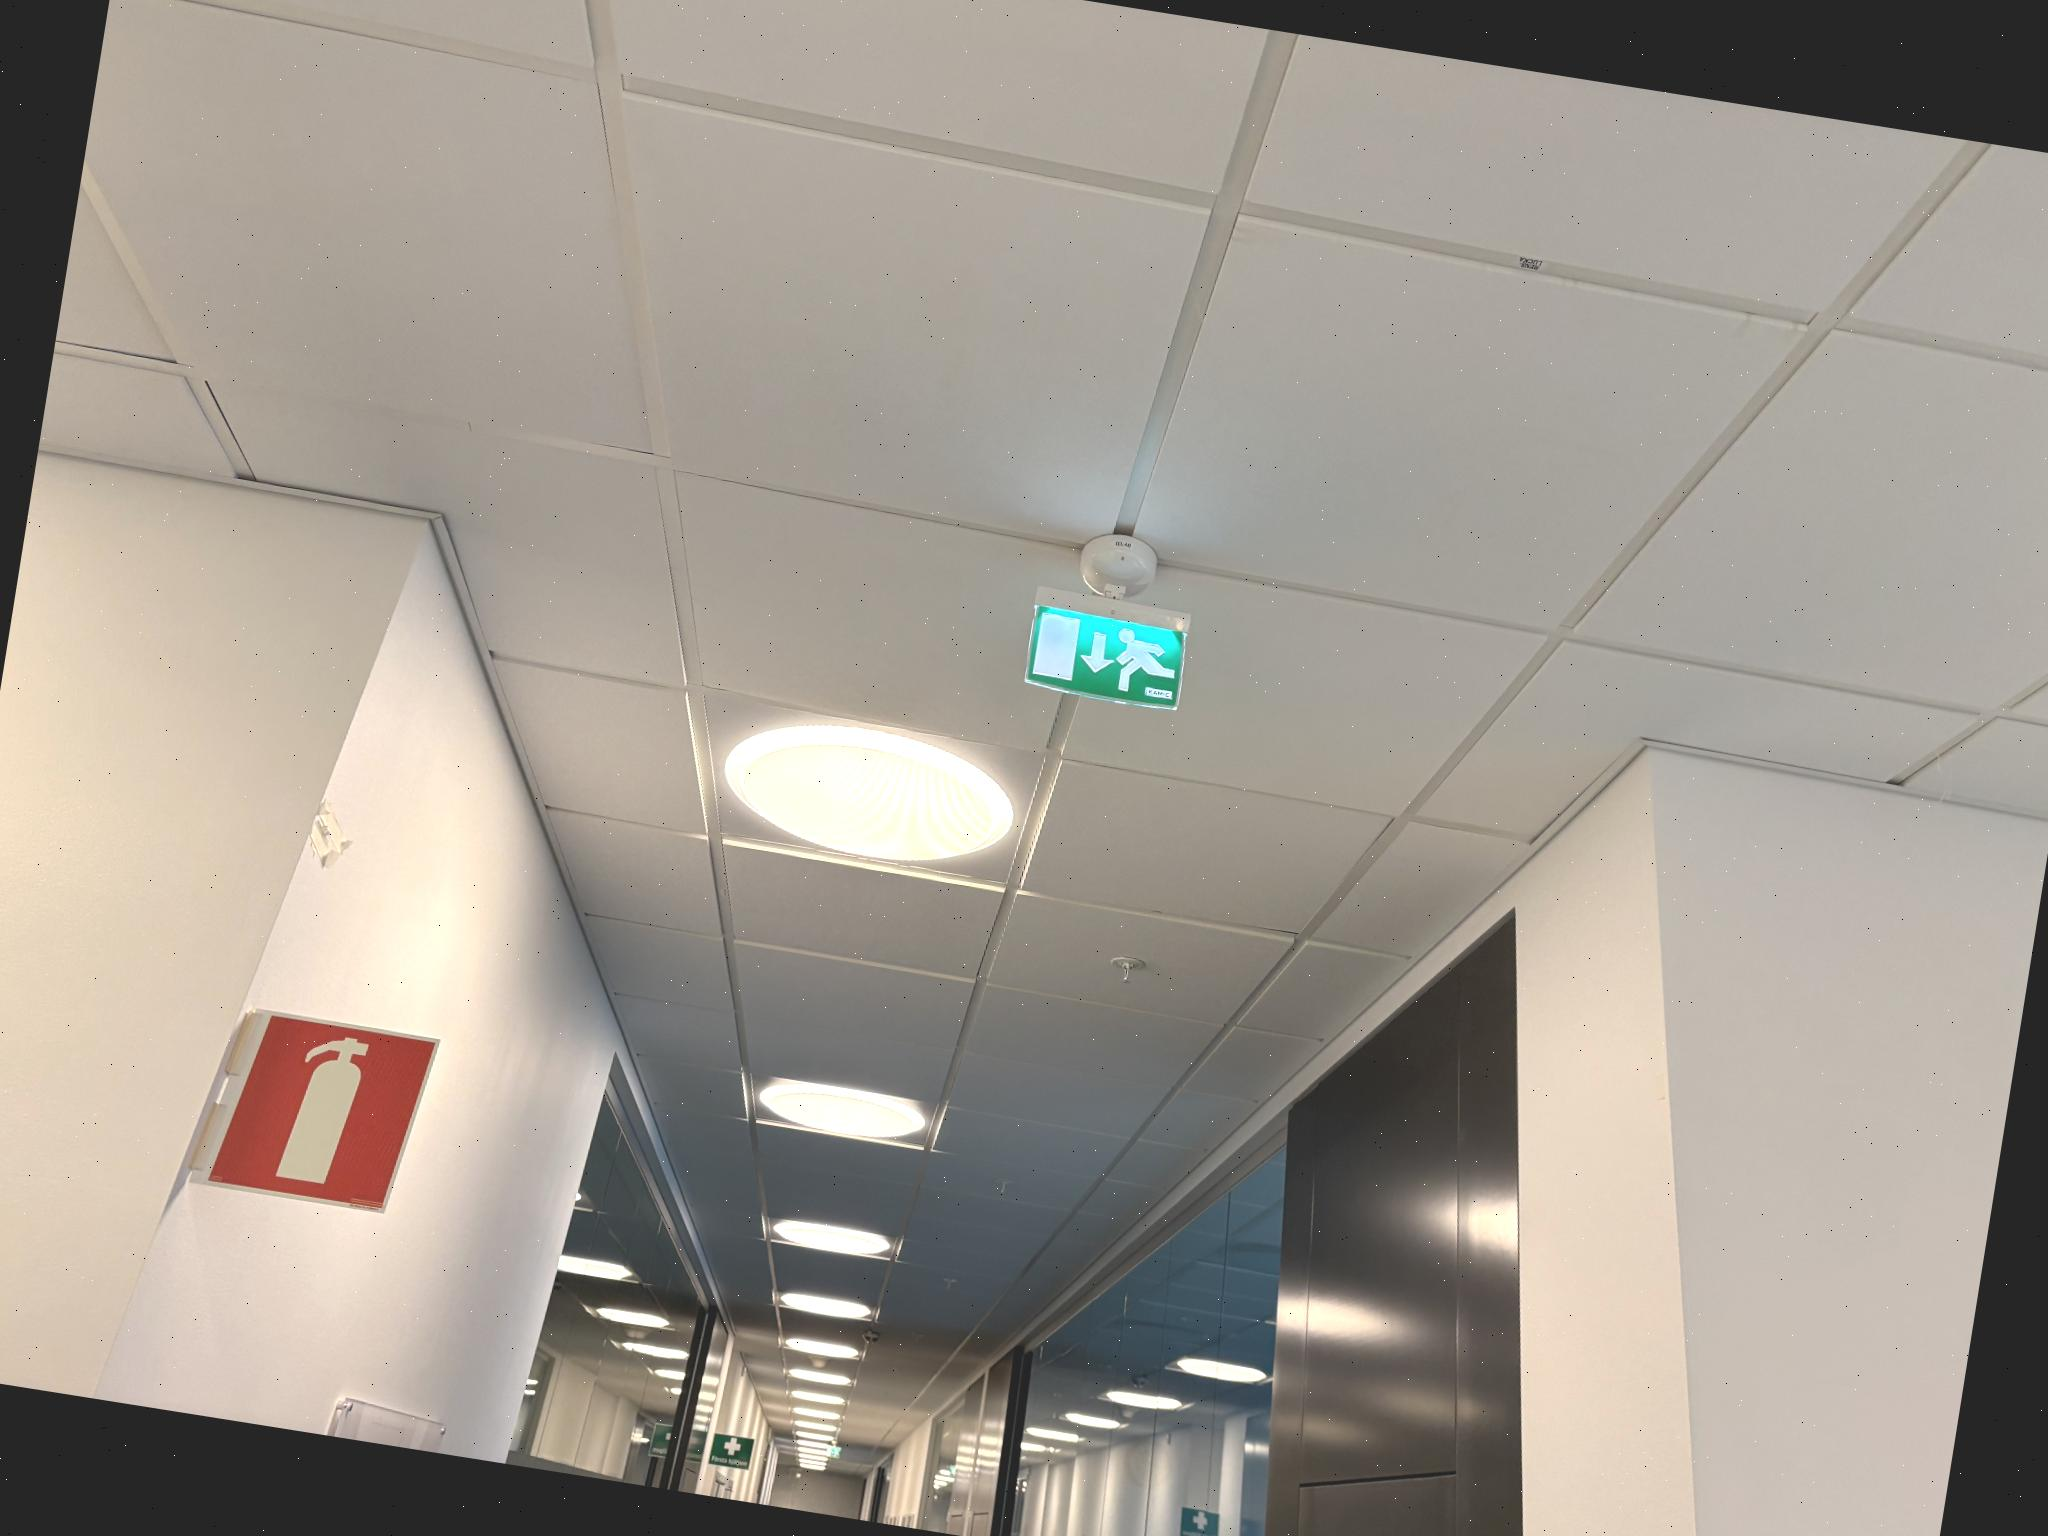exit_sign: (1014, 595, 1208, 724)
